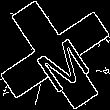M_NW: (22, 21, 88, 89)
